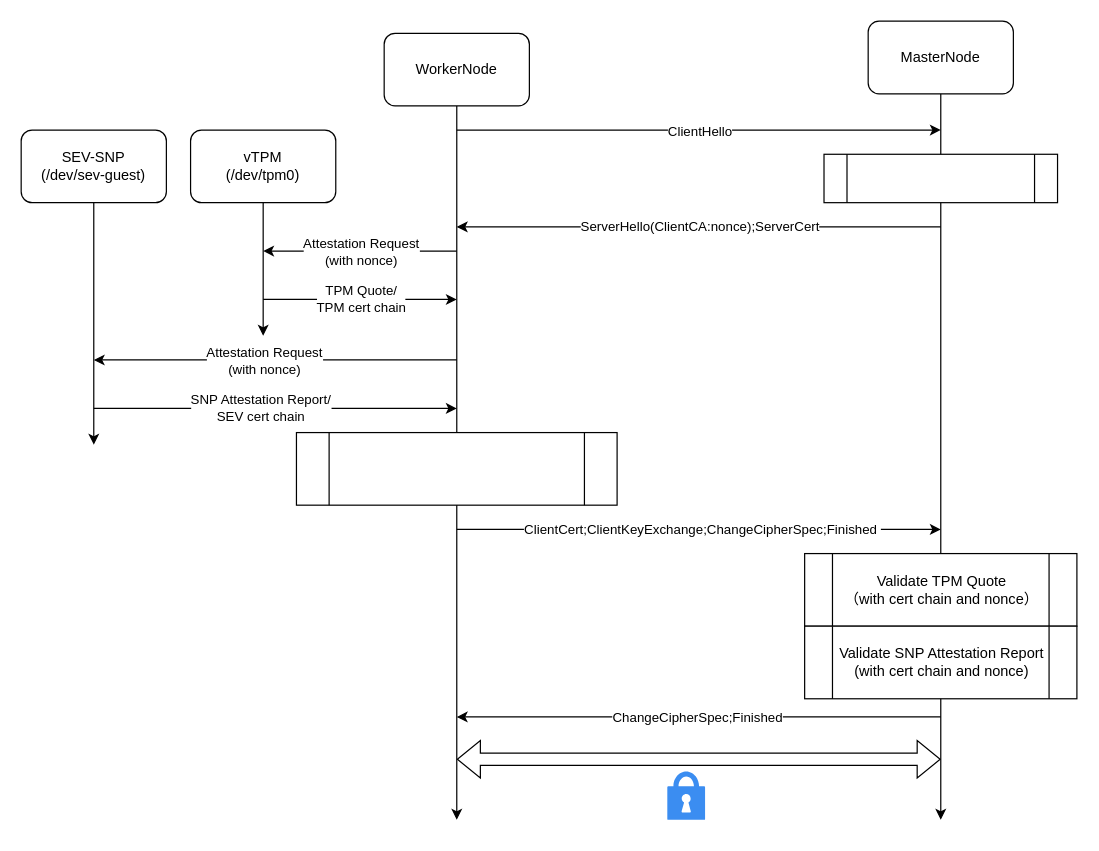
Some shapes in this 1099 by 851 pixel diagram are drawn without their labels. Each missing label, with the box of its shape:
Generate Client certificate (Extentions:Quote;Attestation Report...): (295, 431, 617, 505)
Generate Server Certificate: (823, 153, 1058, 203)
